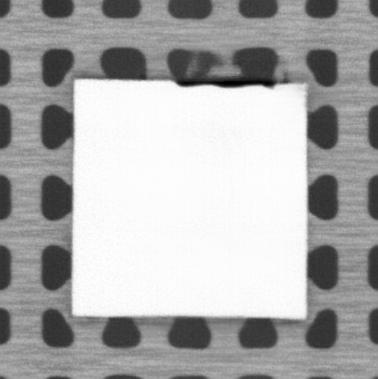DIE_BROKEN: (173, 76, 278, 89)
